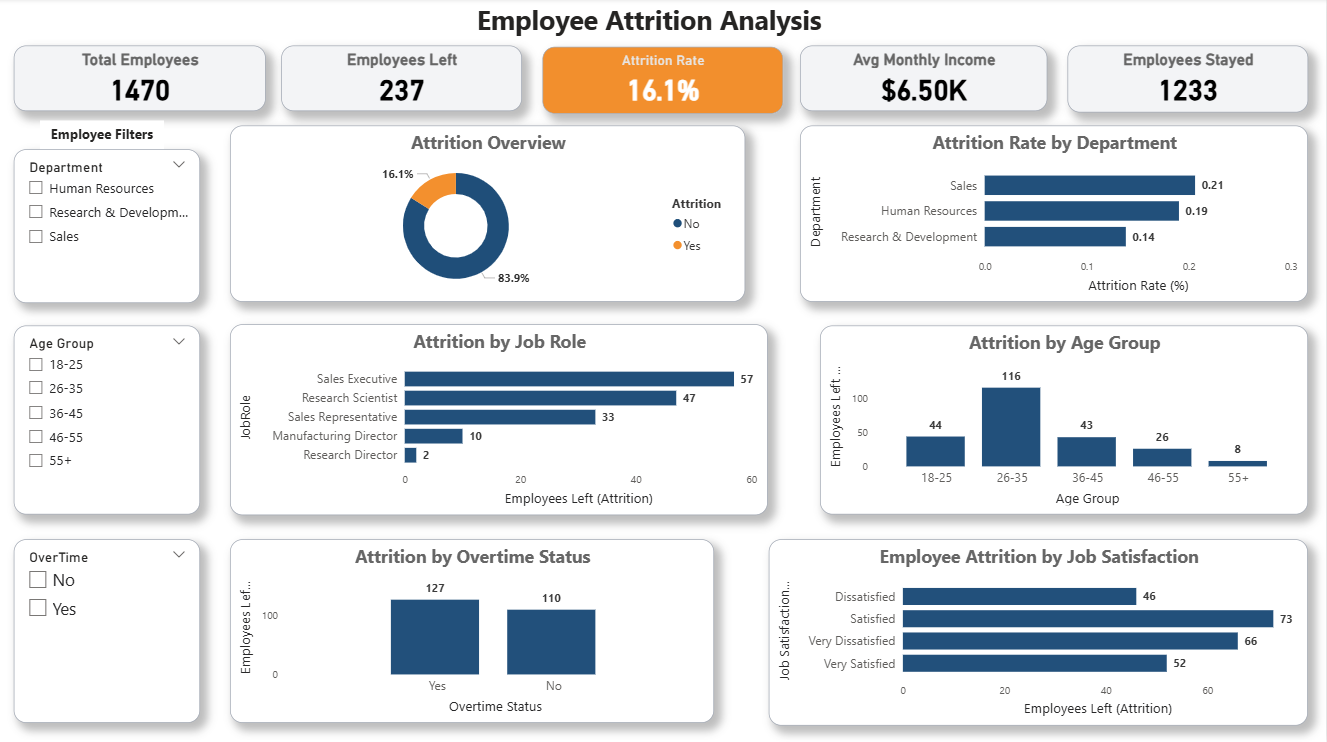

This screenshot's page, from the dashboard's own definition file:
{"tool":"powerbi","page":{"name":"Employee  Attrition Analysis","canvas":[1600,900],"ordinal":0},"visuals":[{"type":"card","title":"Total Employees","fields":{"Values":["data set.Total Employees"]},"box":[17.2,56.7,303.9,79],"z":0},{"type":"card","title":"Employees Left","fields":{"Values":["data set.Employees Left"]},"box":[340,56.7,290.2,79],"z":1000},{"type":"card","title":" Attrition Rate","fields":{"Values":["data set.Attrition Rate"]},"box":[654.2,58.4,290.2,80.7],"z":2000},{"type":"card","title":"Avg Monthly Income","fields":{"Values":["data set.Avg Monthly Income"]},"box":[965,56.7,298.8,79],"z":3000},{"type":"card","title":"Employees Stayed","fields":{"Values":["data set.Employee Stayed"]},"box":[1287.8,56.7,290.2,80.7],"z":4000},{"type":"donutChart","title":"Attrition Overview","fields":{"Category":["data set.Attrition"],"Y":["CountNonNull(data set.EmployeeNumber)"]},"box":[278.2,154.5,621.6,212.9],"z":5000},{"type":"clusteredBarChart","fields":{"Category":["data set.Department"],"Y":["Employee.Attrition Rate"]},"box":[965,154.5,613,212.9],"z":6000},{"type":"clusteredBarChart","title":"Attrition by Job Role","fields":{"Y":["data set.Employees Left"],"Category":["data set.JobRole"]},"box":[278.2,393.2,649.1,230.1],"z":7000},{"type":"clusteredColumnChart","title":"Attrition by Age Group","fields":{"Category":["data set.age group"],"Y":["Employee.Employees Left"]},"box":[989.1,394.9,589,228.4],"z":8000},{"type":"clusteredColumnChart","title":"Attrition by Overtime Status","fields":{"Category":["data set.OverTime"],"Y":["Employee.Employees Left"]},"box":[278.2,652.5,583.8,221.5],"z":9000},{"type":"clusteredBarChart","title":"Employee Attrition by Job Satisfaction","fields":{"Category":["Employee.JobSatisfactionLabel"],"Y":["Employee.Employees Left"]},"box":[927.2,652.5,650.8,224.9],"z":10000},{"type":"slicer","fields":{"Values":["data set.Department"]},"box":[17.2,182,224.9,185.4],"z":12000},{"type":"slicer","fields":{"Values":["Employee.age group"]},"box":[17.2,394.9,224.9,228.4],"z":13000},{"type":"slicer","fields":{"Values":["Employee.OverTime"]},"box":[17.2,652.5,224.9,221.5],"z":14000},{"type":"textbox","box":[48.1,147.7,149.4,34.3],"z":15000},{"type":"textbox","box":[570,0,437.3,57.3],"z":15001}]}

Visuals, with their boxes in screenshot pixels (x1, y1, x2, y2), scaled from the page's 1600x900 canvas onto the 1327x742 screenshot:
"Total Employees" card: pyautogui.locateOnScreen(14, 47, 266, 112)
"Employees Left" card: pyautogui.locateOnScreen(282, 47, 523, 112)
" Attrition Rate" card: pyautogui.locateOnScreen(543, 48, 783, 115)
"Avg Monthly Income" card: pyautogui.locateOnScreen(800, 47, 1048, 112)
"Employees Stayed" card: pyautogui.locateOnScreen(1068, 47, 1309, 113)
"Attrition Overview" donutChart: pyautogui.locateOnScreen(231, 127, 746, 303)
clusteredBarChart - data set.Department x Employee.Attrition Rate: pyautogui.locateOnScreen(800, 127, 1309, 303)
"Attrition by Job Role" clusteredBarChart: pyautogui.locateOnScreen(231, 324, 769, 514)
"Attrition by Age Group" clusteredColumnChart: pyautogui.locateOnScreen(820, 326, 1309, 514)
"Attrition by Overtime Status" clusteredColumnChart: pyautogui.locateOnScreen(231, 538, 715, 721)
"Employee Attrition by Job Satisfaction" clusteredBarChart: pyautogui.locateOnScreen(769, 538, 1309, 723)
slicer - data set.Department: pyautogui.locateOnScreen(14, 150, 201, 303)
slicer - Employee.age group: pyautogui.locateOnScreen(14, 326, 201, 514)
slicer - Employee.OverTime: pyautogui.locateOnScreen(14, 538, 201, 721)
textbox: pyautogui.locateOnScreen(40, 122, 164, 150)
textbox: pyautogui.locateOnScreen(473, 0, 835, 47)
